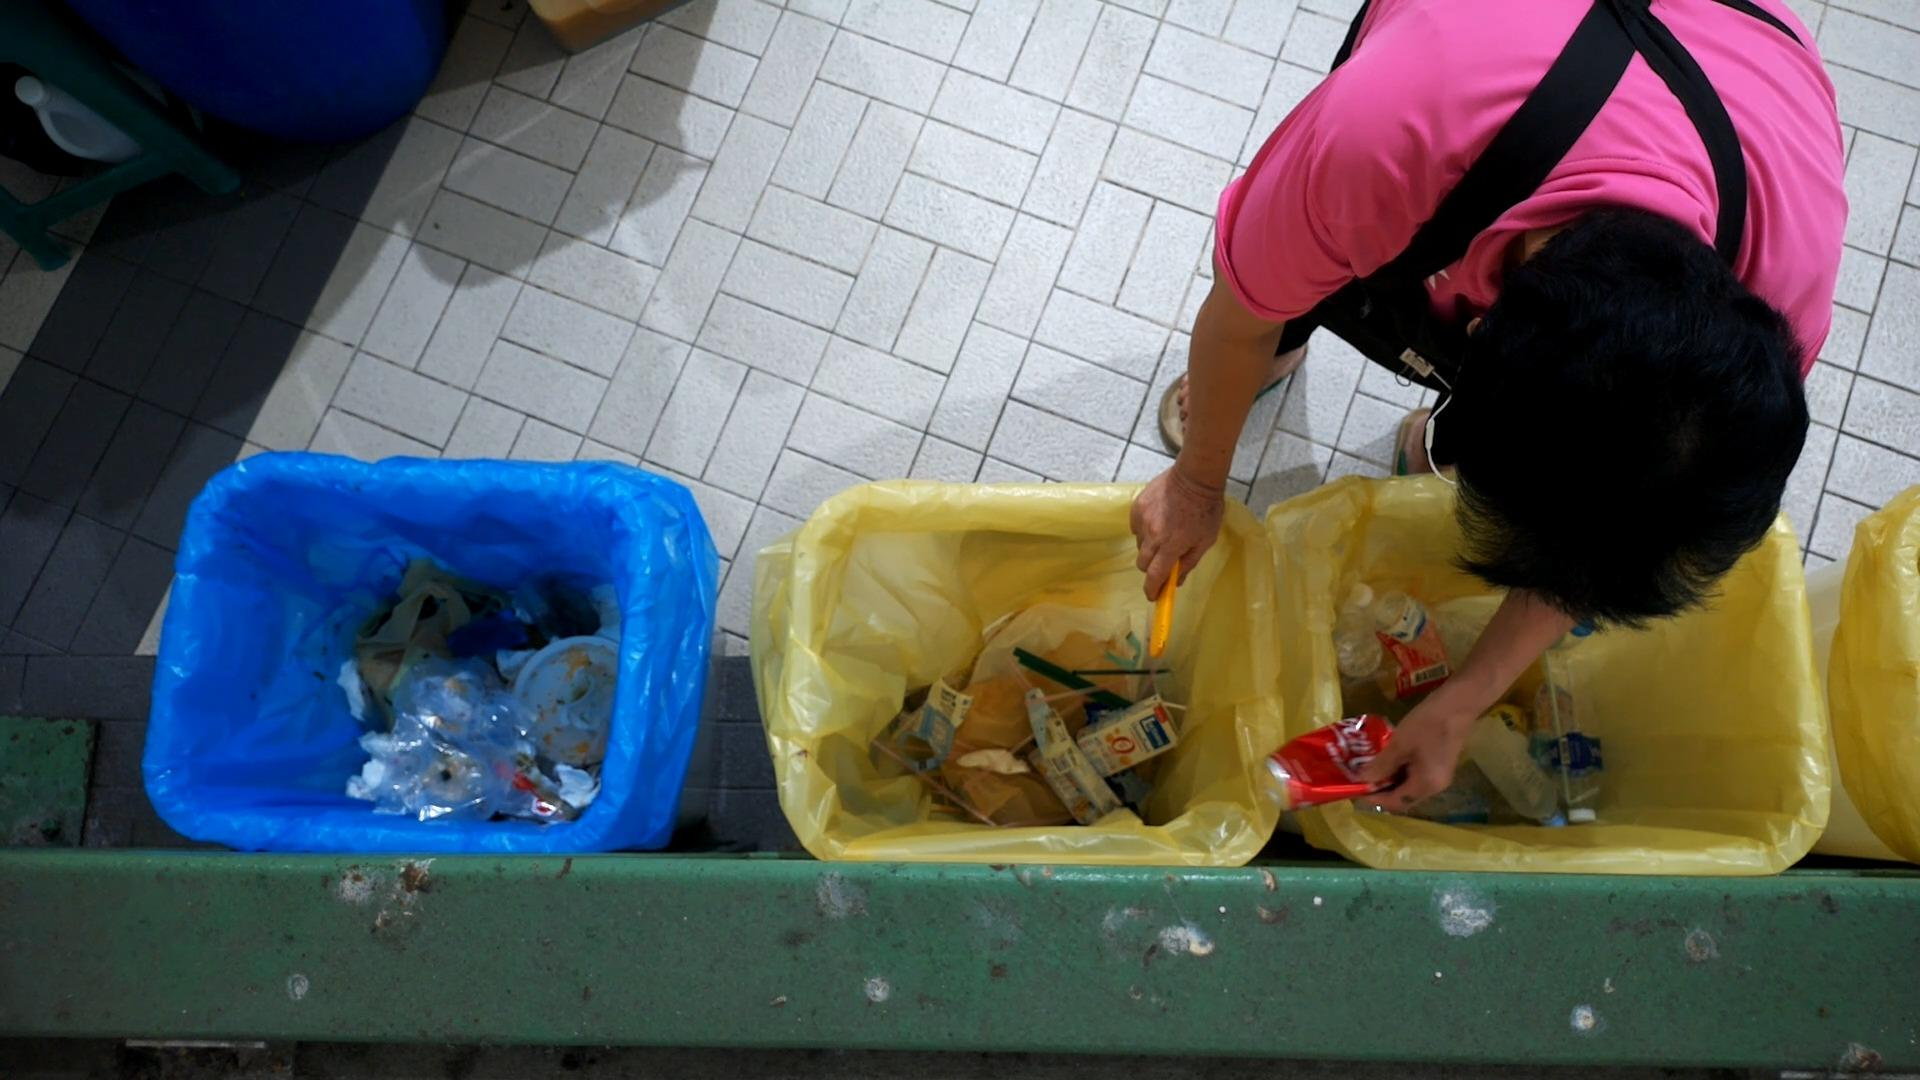can: (1270, 712, 1395, 807)
dirty food container: (513, 634, 621, 765)
milk carton: (1075, 698, 1178, 762)
plastic bottle: (1535, 645, 1610, 823), (1350, 580, 1470, 662)
straw: (864, 738, 993, 831)
tissue paper: (959, 749, 1027, 778)
